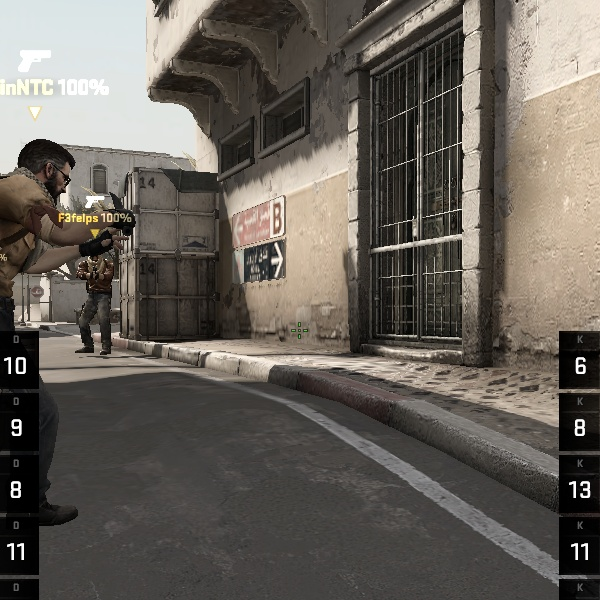ct_head: (17, 135, 85, 203)
t_body: (9, 135, 142, 392)
t_head: (17, 134, 84, 201)
